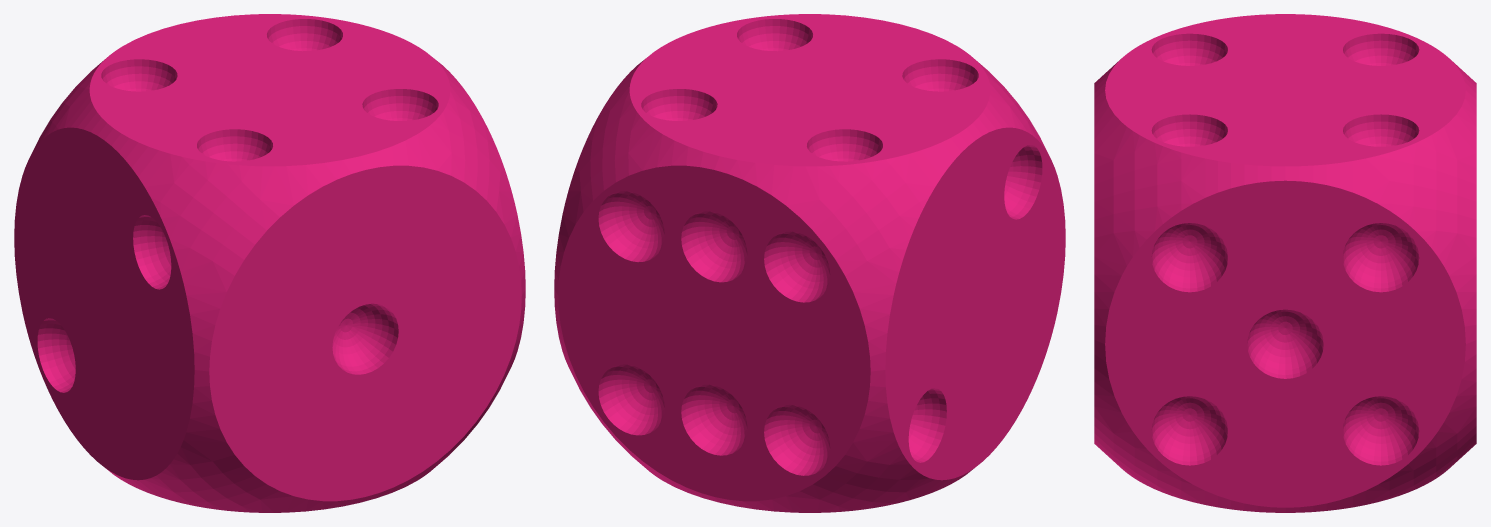
The model's file is tinker.obj.
3 views of the same model, side by side, from view 1: azimuth 30°, elevation 25°; view 2: azimuth 150°, elevation 25°; view 3: azimuth 270°, elevation 25° (orthographic).
Parts seen in each view (by area): view 1: obj_0; view 2: obj_0; view 3: obj_0.
Boxes of the visible parts, left/top/right/bottom form: obj_0: left=14, top=14, right=525, bottom=512; obj_0: left=554, top=14, right=1065, bottom=512; obj_0: left=1094, top=14, right=1476, bottom=512.
Size of the model in its own units: 60 by 60 by 60.
